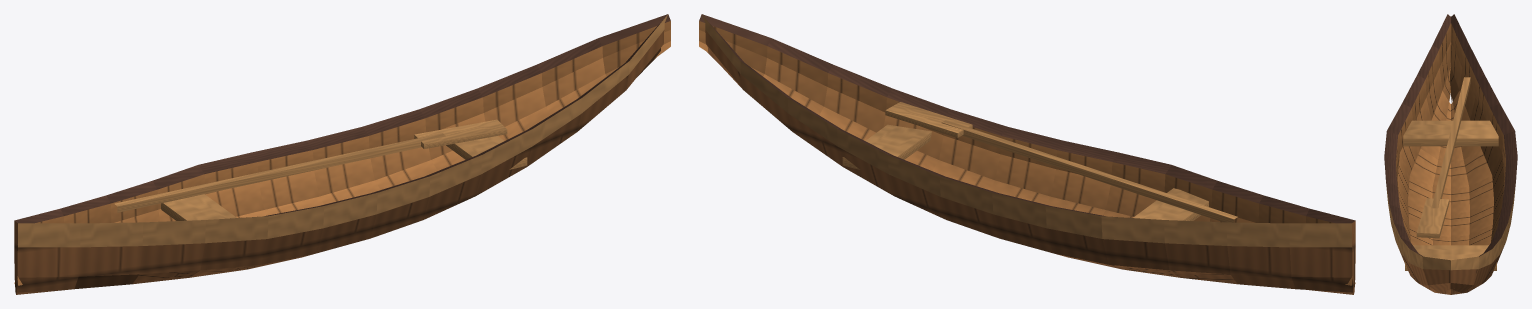
The model's file is boat_canoe_01.glb.
The picture shows the model from 3 angles, left to right: view 1: azimuth 30°, elevation 25°; view 2: azimuth 150°, elevation 25°; view 3: azimuth 270°, elevation 25°; orthographic projection. The views are drawn at different scales.
Visible parts, largest first — view 1: boat_canoe_01; view 2: boat_canoe_01; view 3: boat_canoe_01.
Boxes of the visible parts, left/top/right/bottom form: boat_canoe_01: left=14, top=14, right=670, bottom=294; boat_canoe_01: left=699, top=14, right=1355, bottom=294; boat_canoe_01: left=1384, top=14, right=1517, bottom=294.
Size of the model in its own units: 4.2 by 0.8779 by 0.8148.
1 material, 1 textured.
